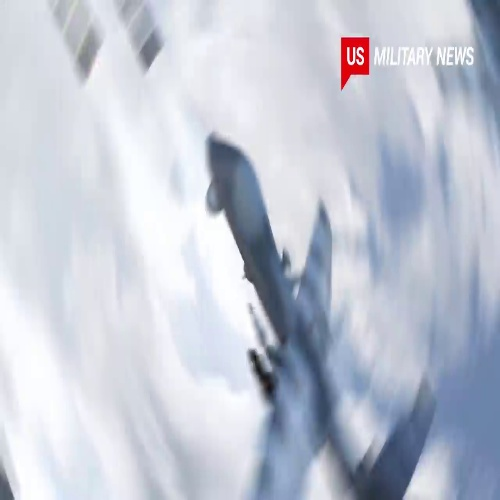uav163: (198, 128, 438, 498)
